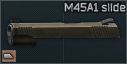M45A1 .45 ACP slide: (0, 0, 127, 64)
